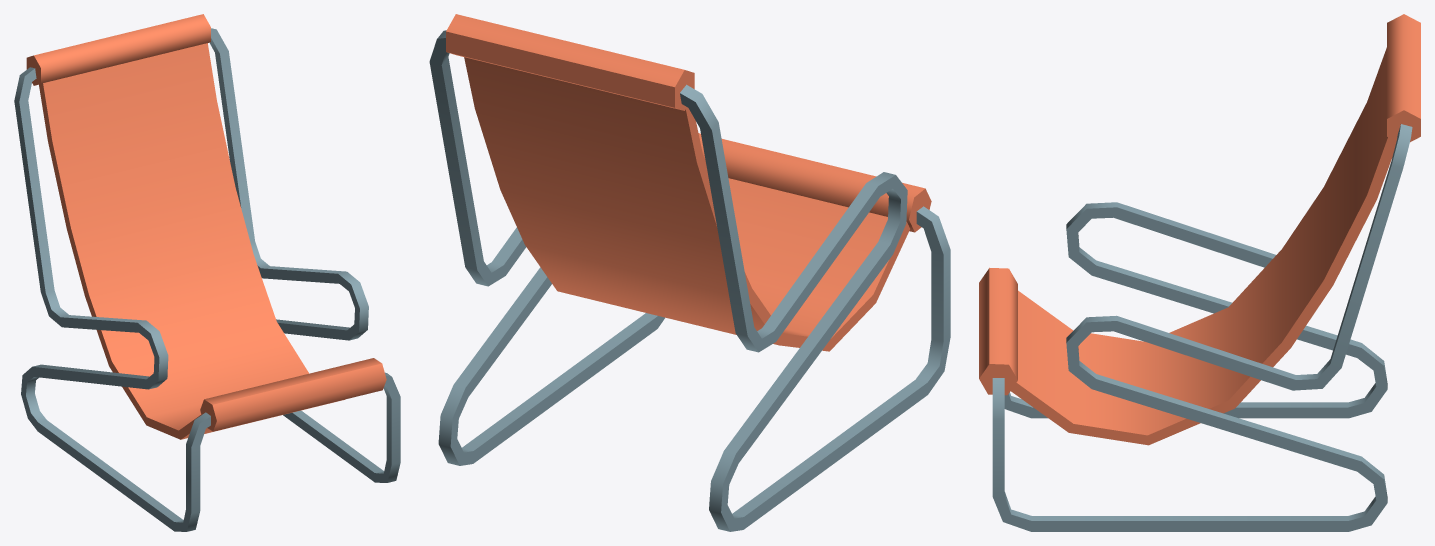
File: lounge_chair_017.glb
The picture shows the model from 3 angles, left to right: view 1: azimuth 30°, elevation 25°; view 2: azimuth 150°, elevation 25°; view 3: azimuth 270°, elevation 25°; orthographic projection. The views are drawn at different scales.
Parts seen in each view (by area): view 1: lounge_chair_017; view 2: lounge_chair_017; view 3: lounge_chair_017.
Boxes of the visible parts, x1,y1,x2,y2 form: lounge_chair_017: (14,14,400,531); lounge_chair_017: (429,14,950,531); lounge_chair_017: (979,14,1420,531).
Bounding box in the file's own units: 0.6878 × 1.11 × 1.08.
Materials: 1 (1 with a texture image).
